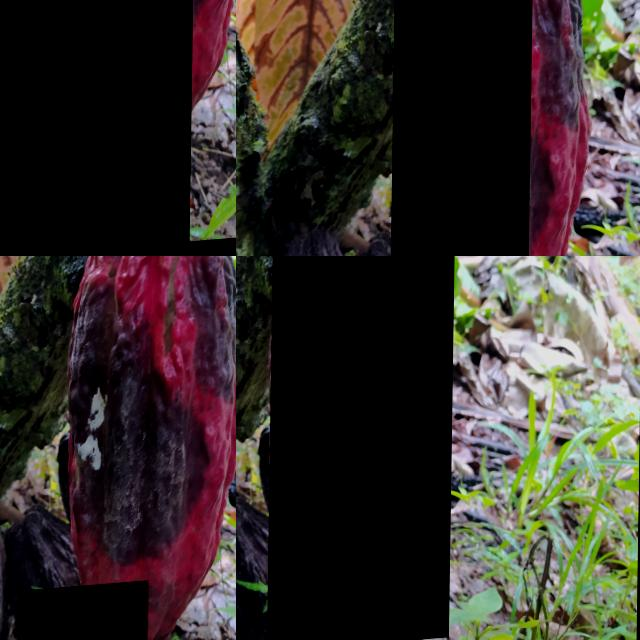Fitoftora: (390, 0, 534, 256)
Monilia: (268, 256, 456, 640)
Sana: (0, 0, 198, 256), (18, 586, 149, 640)
